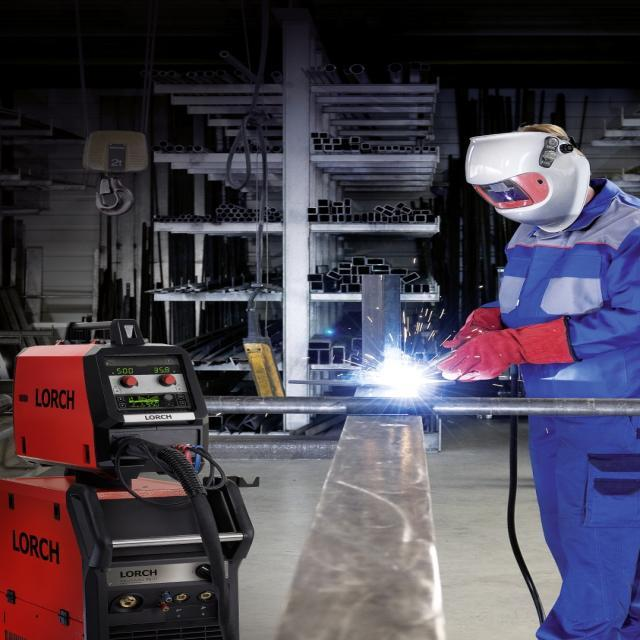with_helmet: (466, 131, 589, 233)
